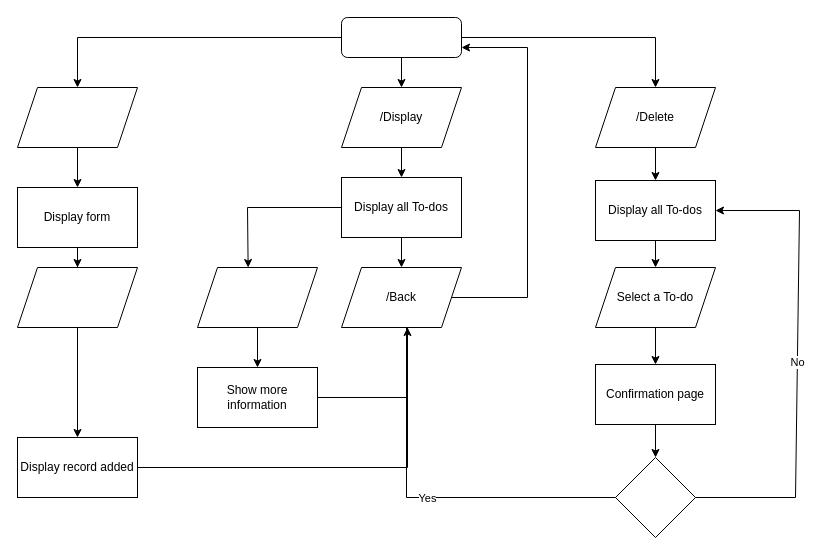
This 825x555 diagram has some shape labels left out. The shapes that lost their labels are listed below. From the top down, each one's box as (x1, y1, x2, y2) in pixels, then its label:
(340, 16, 462, 58): Menu
(16, 86, 138, 148): /New
(16, 266, 138, 328): Submit
(196, 266, 318, 328): Click the To-do
(614, 456, 696, 538): Confirm
